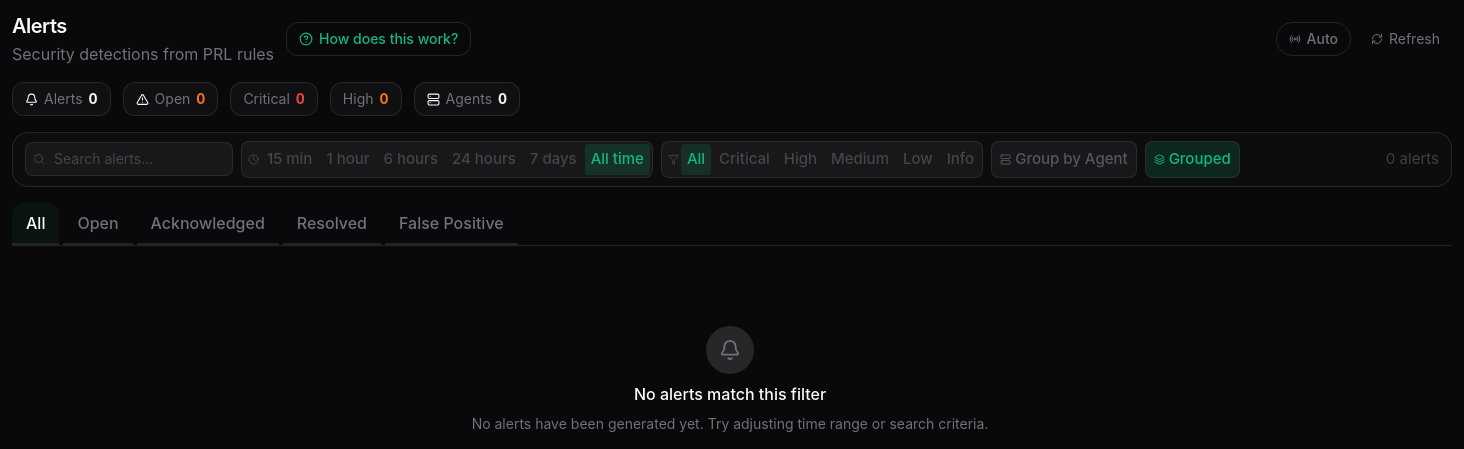
it: AlertsPage › can toggle live mode
Click the button "Auto": (1313, 39) [1276,22,1351,56]
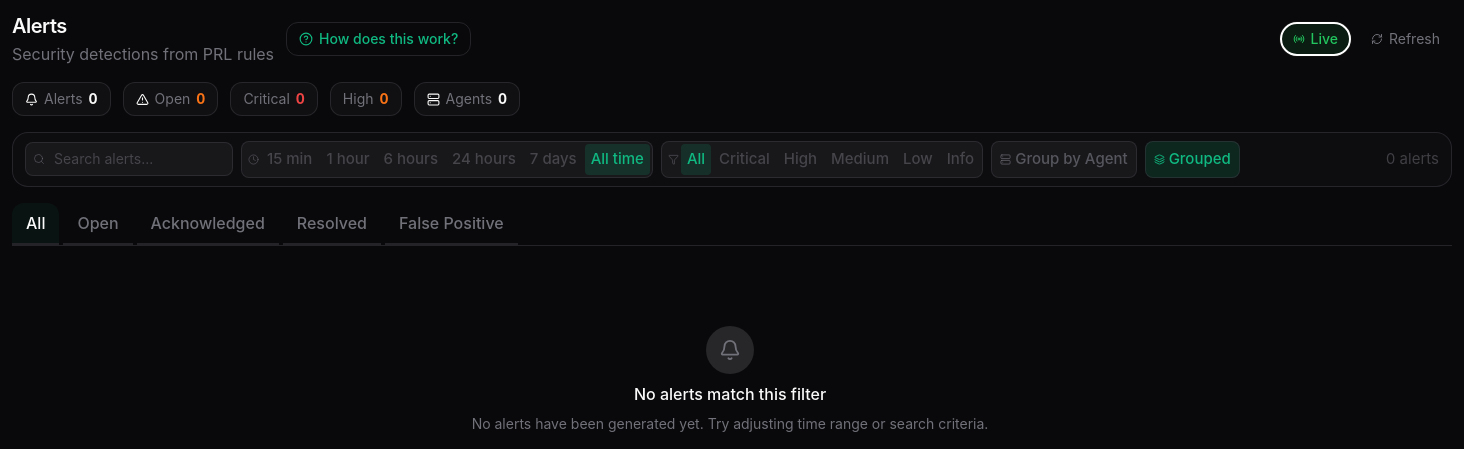
Expected: the button "Live" is shown, [1280,22,1351,56]
